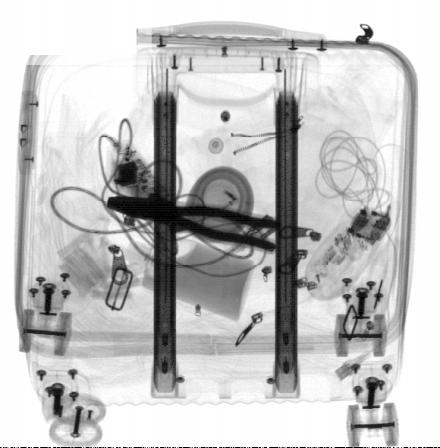Pliers: (106, 196, 276, 253)
